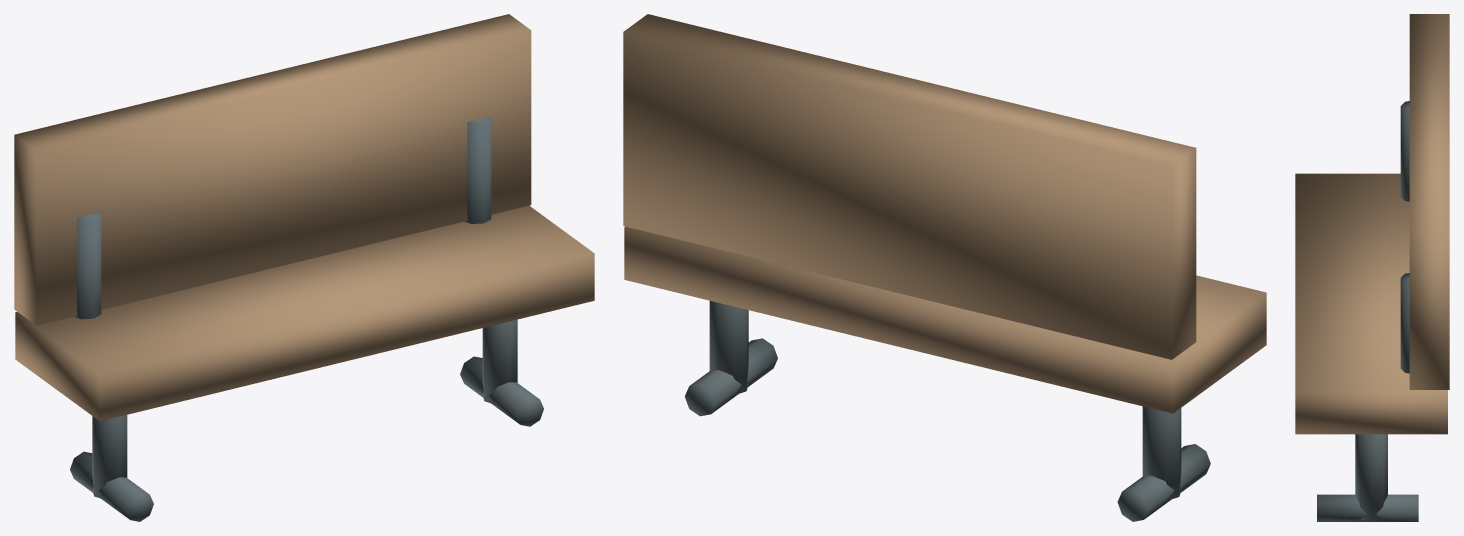
The model's file is Bench.glb.
The picture shows the model from 3 angles, left to right: view 1: azimuth 30°, elevation 25°; view 2: azimuth 150°, elevation 25°; view 3: azimuth 270°, elevation 25°; orthographic projection. The views are drawn at different scales.
Visible parts, largest first — view 1: park_bench_mat_00_seat, park_bench_mat_01_front_leg_-0.56; view 2: park_bench_mat_00_seat, park_bench_mat_01_front_leg_-0.56; view 3: park_bench_mat_00_seat, park_bench_mat_01_front_leg_-0.56.
Boxes of the visible parts, box(x1,y1,x2,y2) form: park_bench_mat_00_seat: box(14, 14, 594, 421); park_bench_mat_01_front_leg_-0.56: box(70, 116, 543, 521); park_bench_mat_00_seat: box(623, 14, 1266, 413); park_bench_mat_01_front_leg_-0.56: box(684, 301, 1210, 521); park_bench_mat_00_seat: box(1295, 14, 1449, 434); park_bench_mat_01_front_leg_-0.56: box(1317, 101, 1418, 521).
Size of the model in its own units: 1.42 by 0.95 by 0.425.
